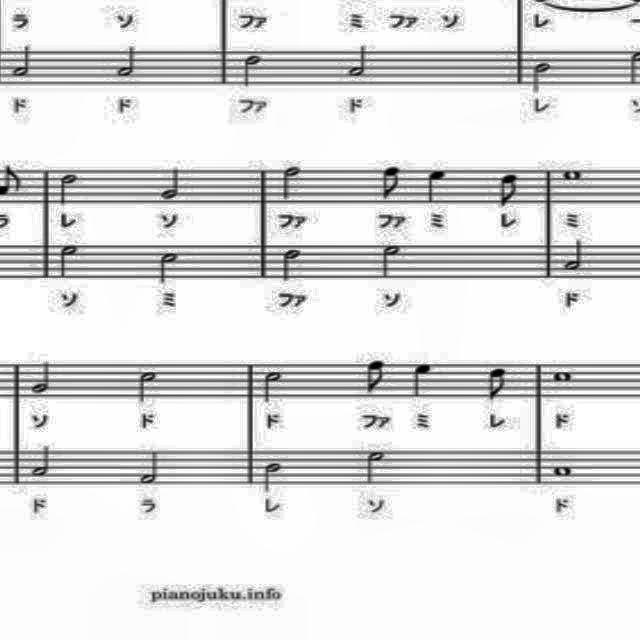Eighth-note: (374, 164, 412, 202), (358, 358, 390, 402), (492, 170, 528, 208), (484, 364, 510, 408)
Full-note: (549, 458, 579, 482), (549, 368, 583, 388), (560, 166, 588, 184)
Half-note: (338, 42, 376, 82), (152, 250, 190, 290), (158, 164, 190, 208), (29, 443, 60, 485), (56, 243, 85, 285), (376, 242, 406, 282), (138, 446, 166, 488), (363, 445, 391, 487), (280, 163, 306, 207), (278, 248, 306, 288), (29, 356, 53, 402), (260, 370, 292, 402), (112, 44, 140, 80), (136, 368, 164, 404), (55, 170, 81, 208), (258, 460, 286, 494), (8, 44, 34, 80), (240, 53, 266, 89), (528, 60, 554, 96), (563, 240, 589, 274)
Quarter-note: (410, 360, 440, 406), (423, 165, 447, 207)
